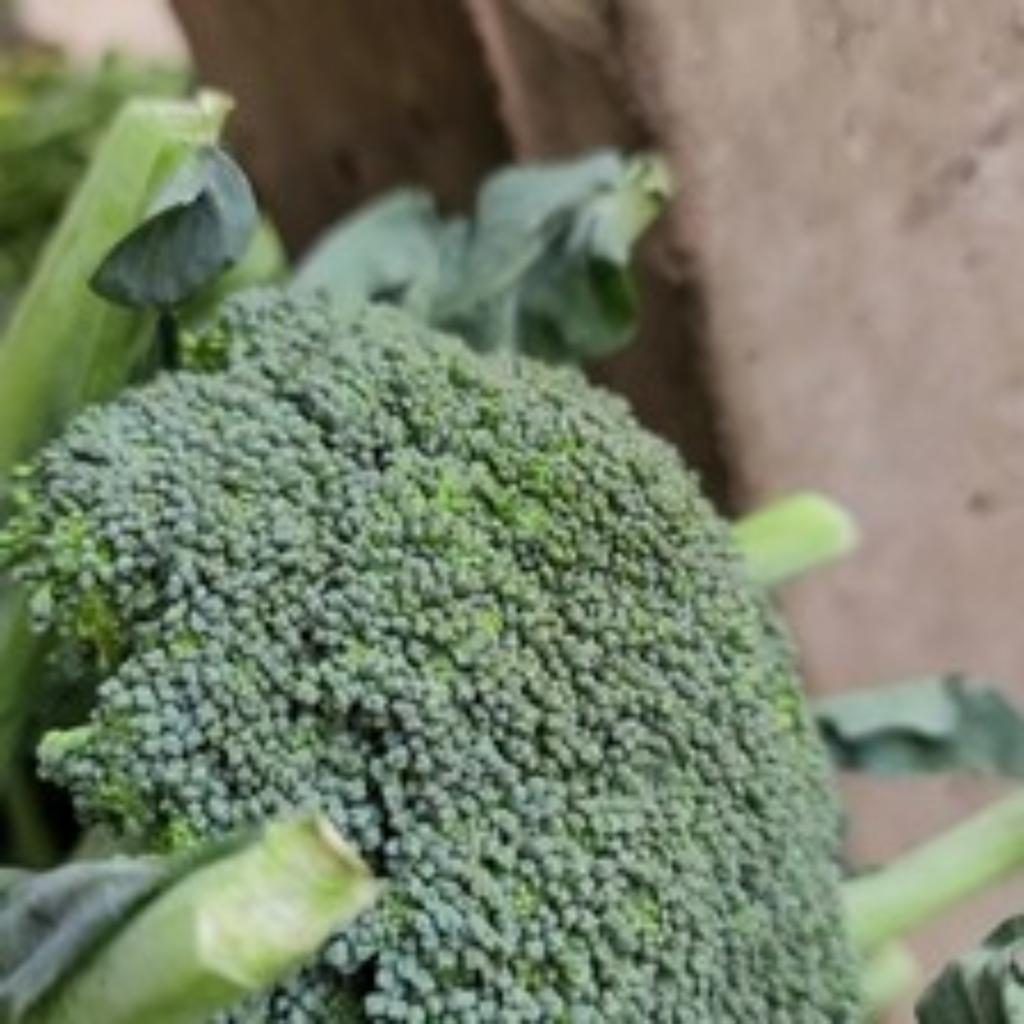Broccoli: (10, 292, 854, 1024), (30, 296, 856, 1024)
